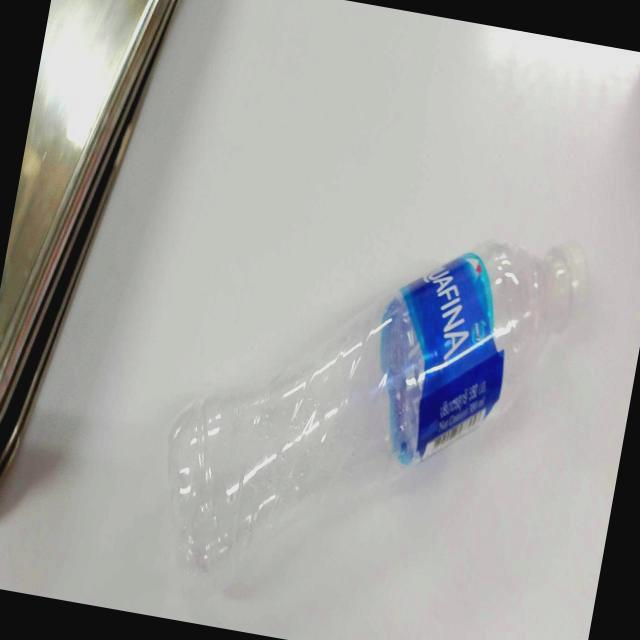General: (2, 1, 639, 637), (378, 237, 589, 468)
Infectious: (167, 237, 589, 575)
Sharps: (1, 0, 182, 478)
